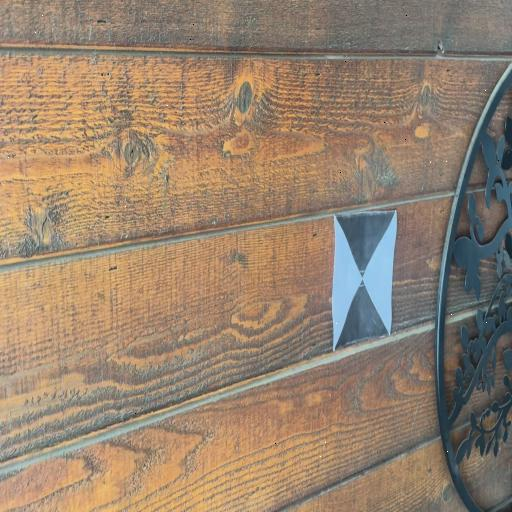target: (333, 212, 397, 350)
